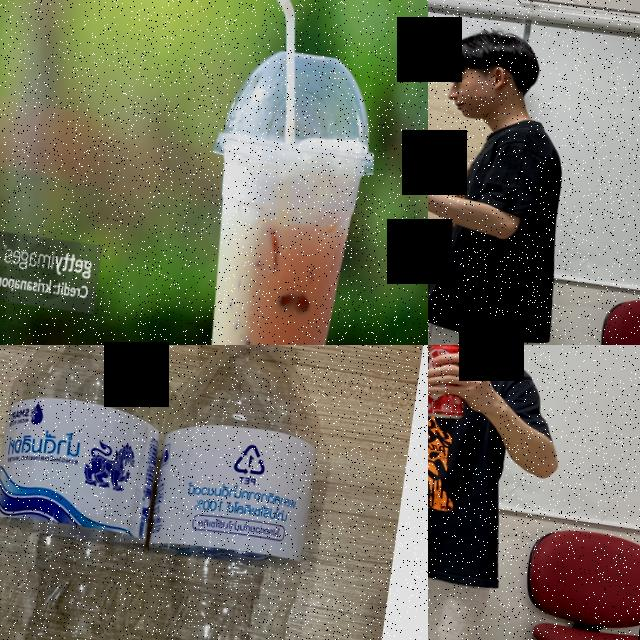bottle: (100, 345, 343, 640), (0, 345, 183, 640)
can: (428, 345, 475, 423)
cup: (168, 40, 390, 345)
